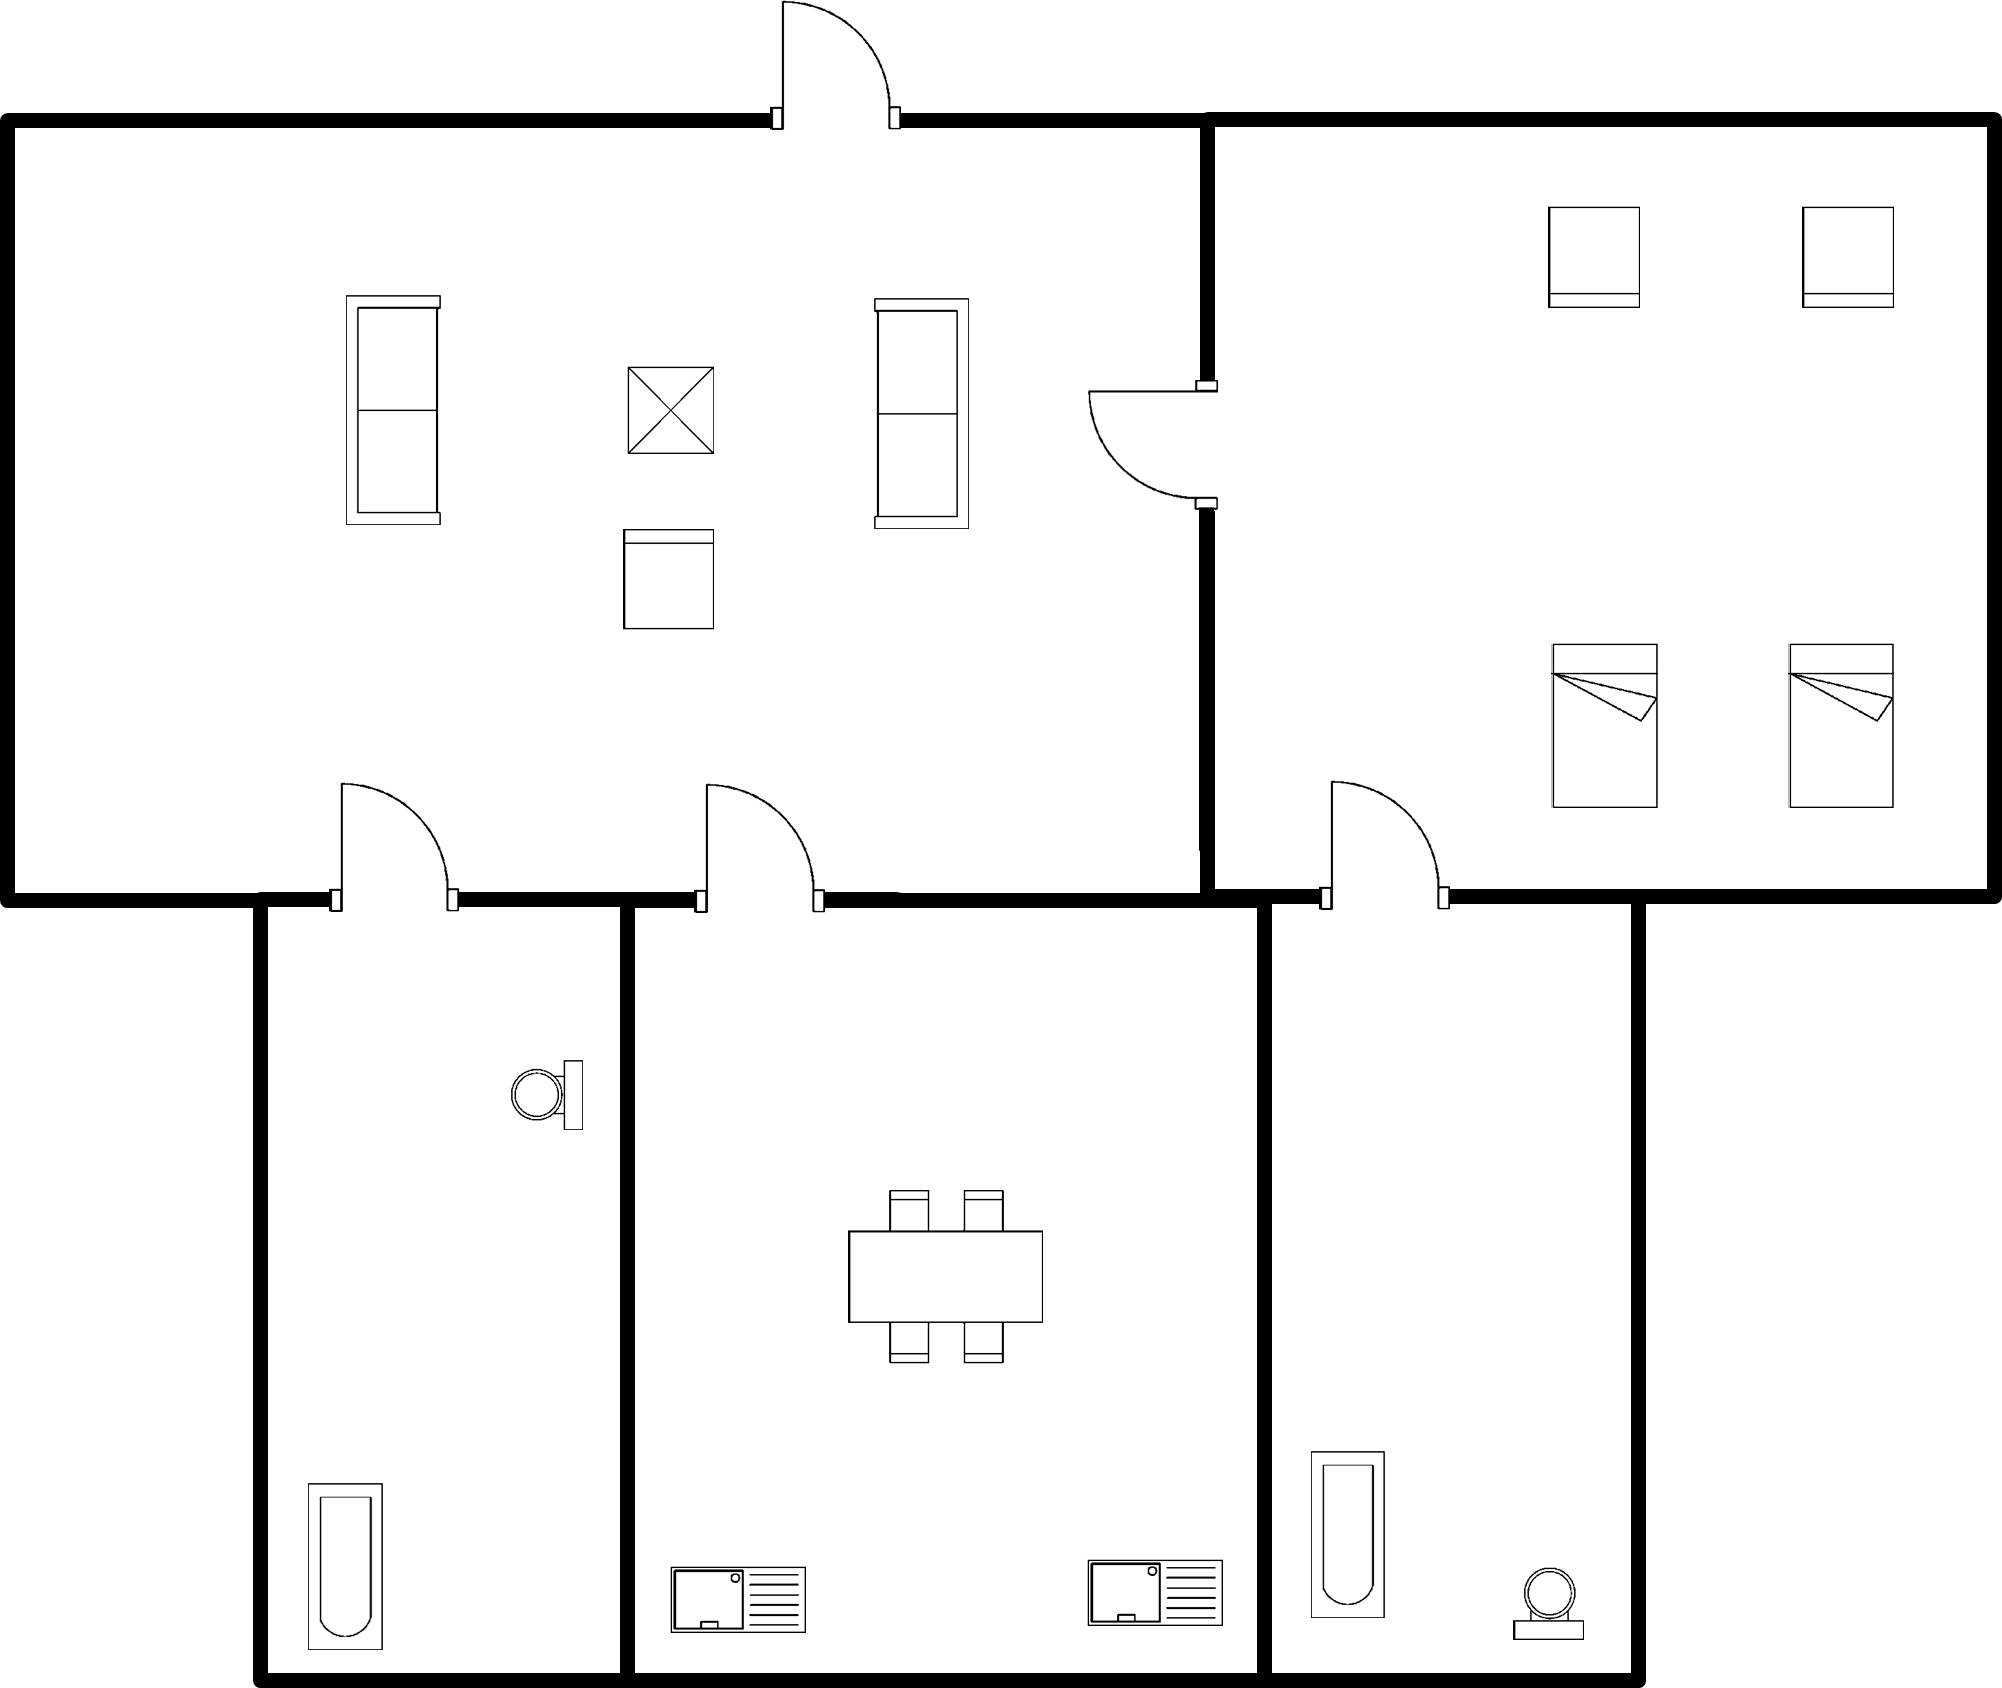bed: (1542, 631, 1668, 823), (1778, 626, 1903, 818)
coffee_table: (612, 352, 726, 473)
dining_table: (822, 1173, 1058, 1378)
large_sink: (496, 1050, 596, 1149), (1498, 1554, 1596, 1652)
large_sofa: (863, 287, 986, 550), (334, 283, 453, 544)
sink: (655, 1559, 819, 1649), (1076, 1544, 1234, 1637)
small_sofa: (1534, 196, 1652, 329), (612, 516, 731, 644), (1788, 196, 1908, 321)
tub: (1296, 1439, 1396, 1632), (294, 1473, 393, 1667)
